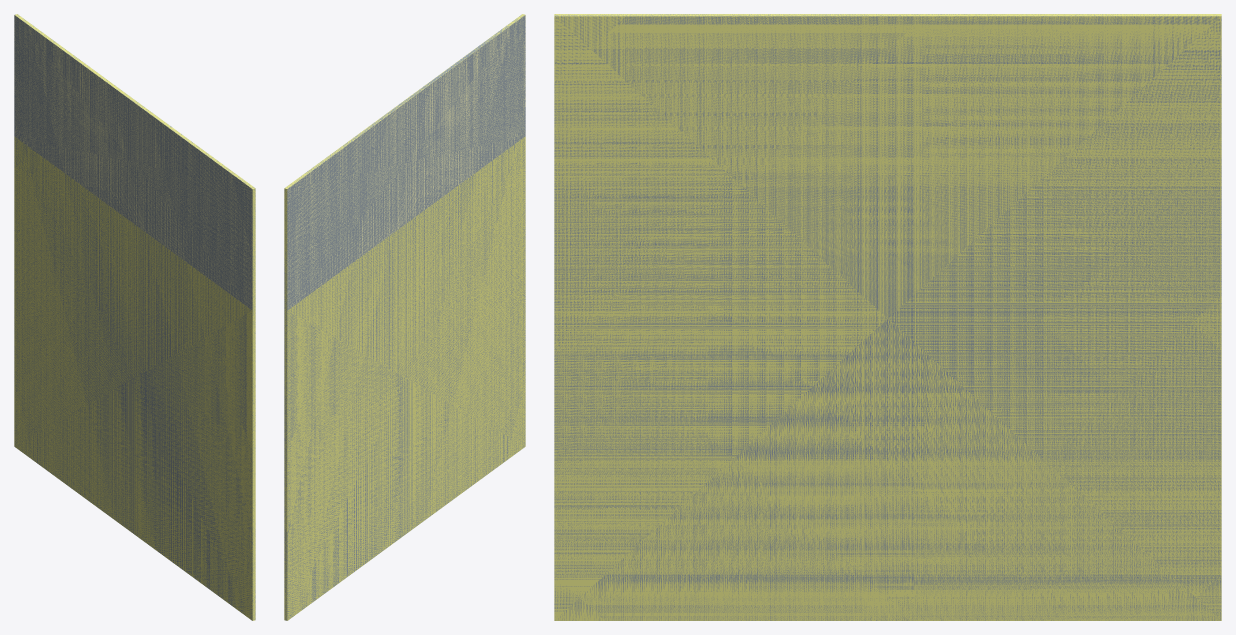
The model's file is note.fbx.
3 views of the same model, side by side, from view 1: azimuth 30°, elevation 25°; view 2: azimuth 150°, elevation 25°; view 3: azimuth 270°, elevation 25° (orthographic). The views are drawn at different scales.
Visible parts, largest first — view 1: Sticky_Note1; view 2: Sticky_Note1; view 3: Sticky_Note1.
Part boxes in pixels (box(x1,y1,x2,y2)): Sticky_Note1: box(14, 14, 255, 620); Sticky_Note1: box(284, 14, 525, 620); Sticky_Note1: box(554, 14, 1221, 620).
Bounding box in the file's own units: 0.0397 × 5.08 × 5.08.
